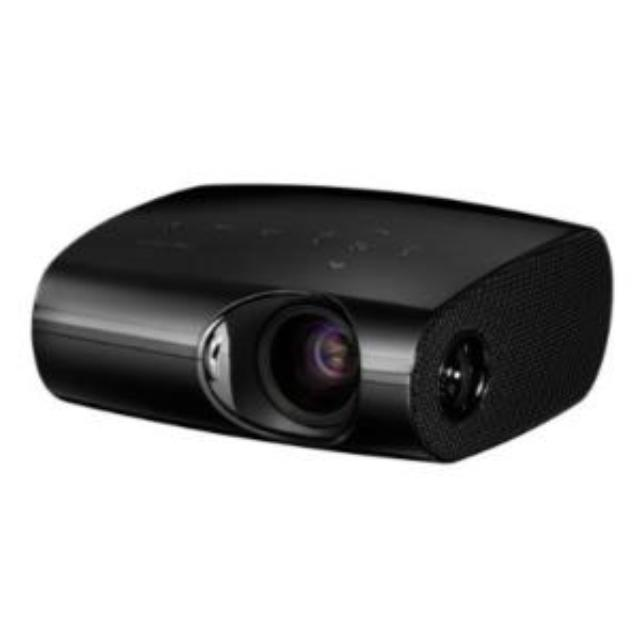Projector: (29, 182, 628, 472)
